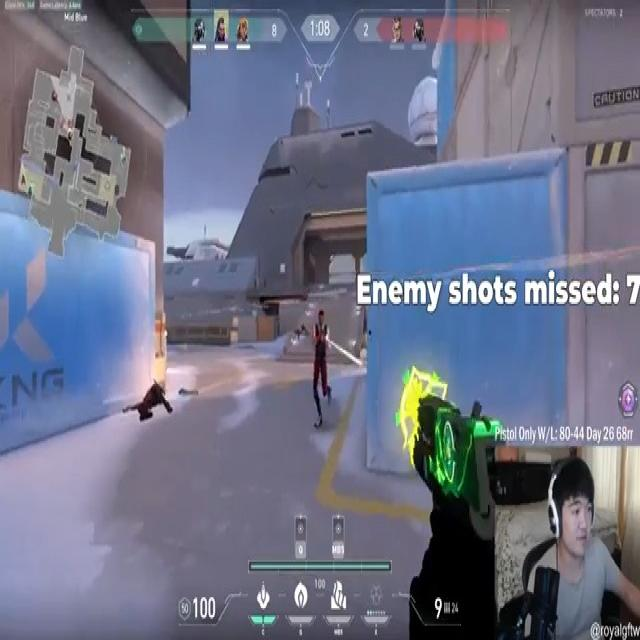enemy: (312, 306, 333, 433)
